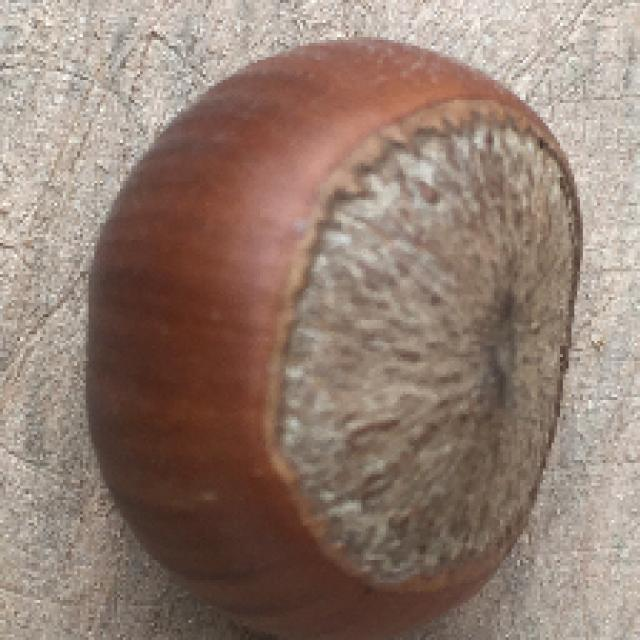qualityHazelnut: (89, 39, 588, 636)
